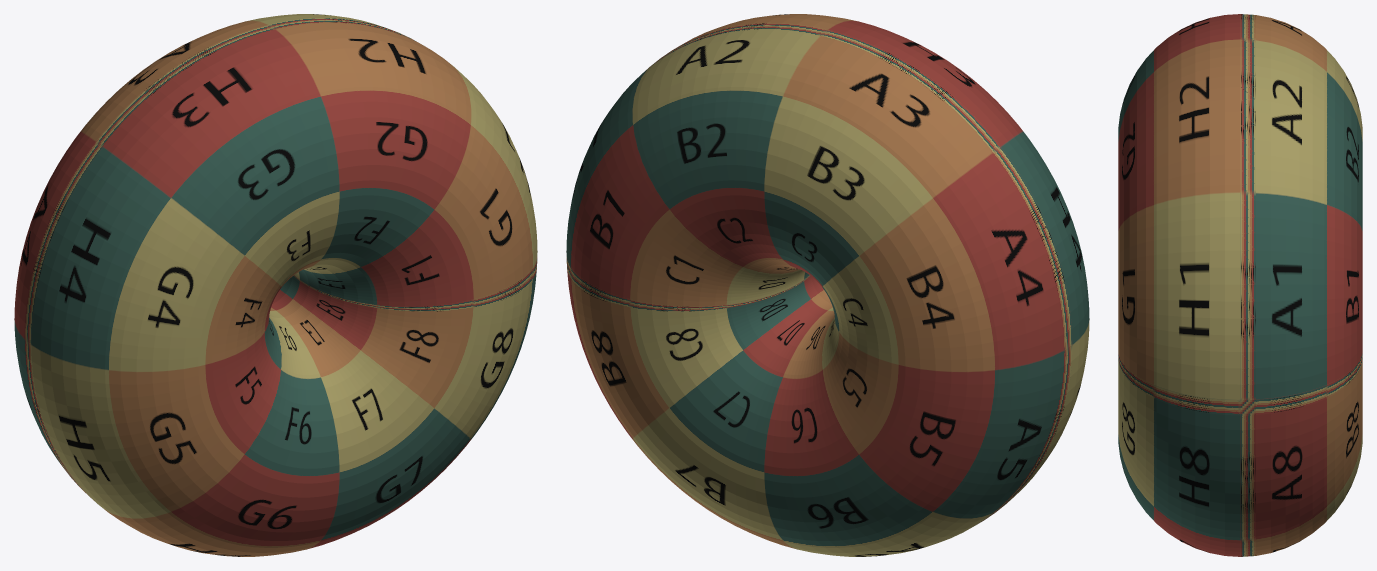
File: texture_torus_R0_r7.glb
The picture shows the model from 3 angles, left to right: view 1: azimuth 30°, elevation 25°; view 2: azimuth 150°, elevation 25°; view 3: azimuth 270°, elevation 25°; orthographic projection. The views are drawn at different scales.
Parts seen in each view (by area): view 1: world; view 2: world; view 3: world.
Part boxes in pixels (bbox=[...]): world: bbox=[14, 14, 537, 556]; world: bbox=[566, 14, 1089, 556]; world: bbox=[1118, 14, 1362, 556].
Bounding box in the file's own units: 18.22 × 18.22 × 8.21.
1 material, 1 textured.
